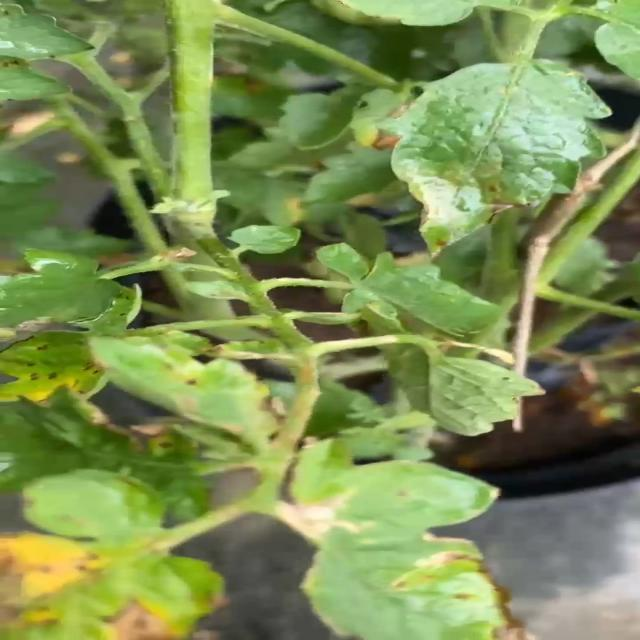Tomato_Early_Blight: (380, 86, 558, 251)
